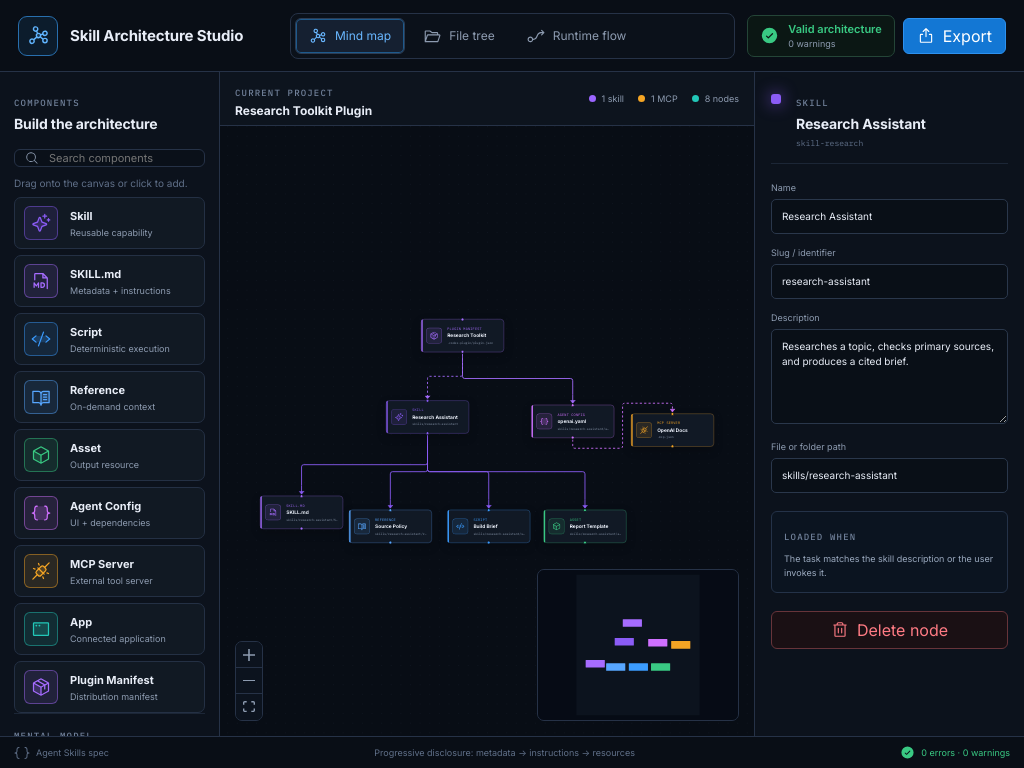
Scenario: Skill Architecture Studio › confirms when a blueprint export is created
This screenshot has width=1024, height=768.
Click the button "Export".
click(954, 36)  # box x1=903 y1=18 x2=1006 y2=54
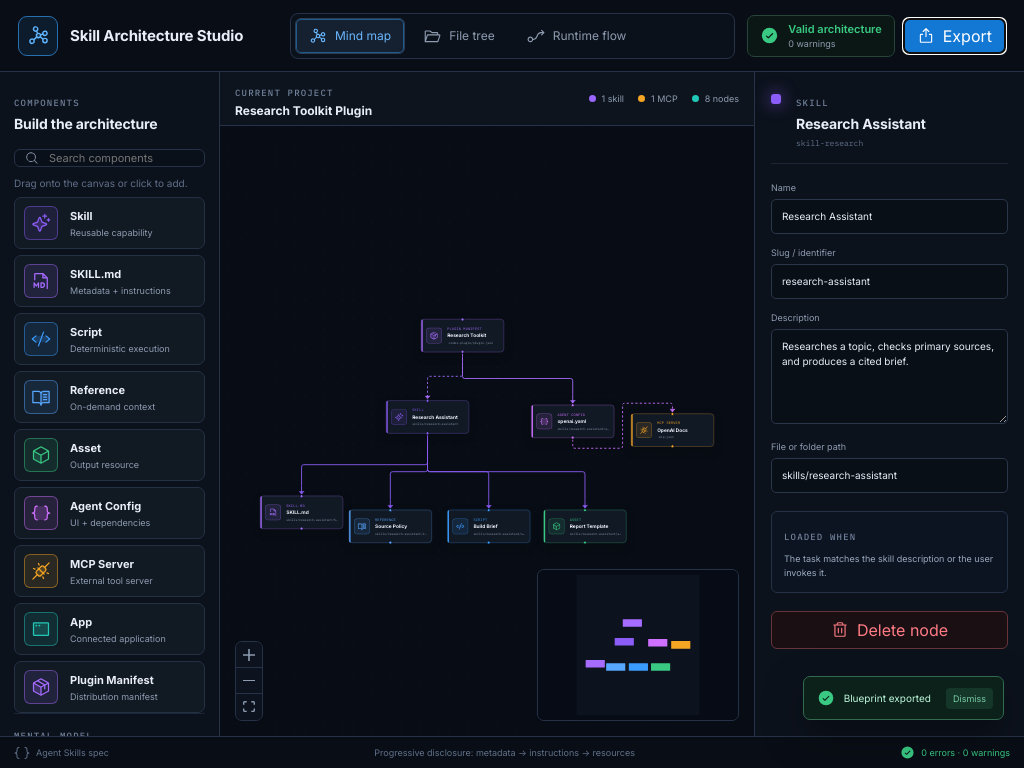
Expected: the text "Blueprint exported" is shown, x1=844 y1=692 x2=931 y2=704
